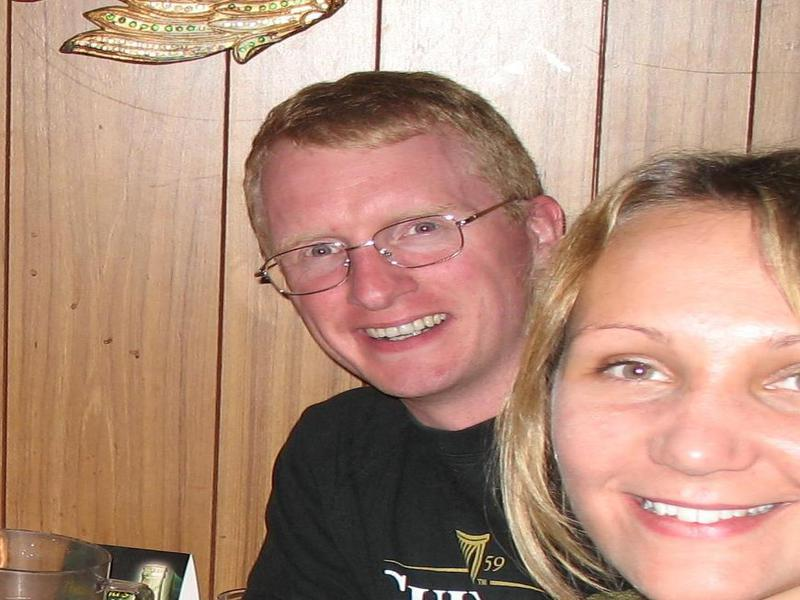person: (237, 96, 616, 600), (491, 126, 799, 599)
